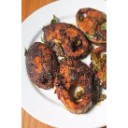seerfish: (59, 55, 97, 112), (42, 22, 89, 56), (27, 43, 57, 87), (77, 7, 108, 43), (91, 44, 107, 93)
